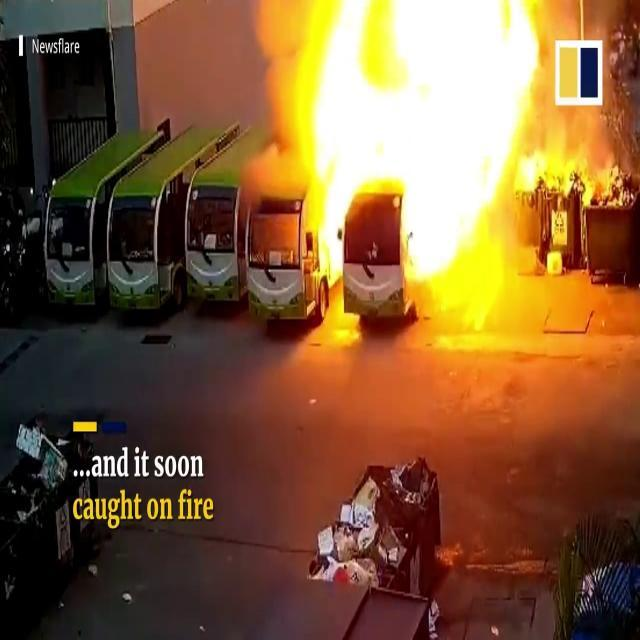Fire: (275, 0, 553, 317), (520, 130, 622, 208)
